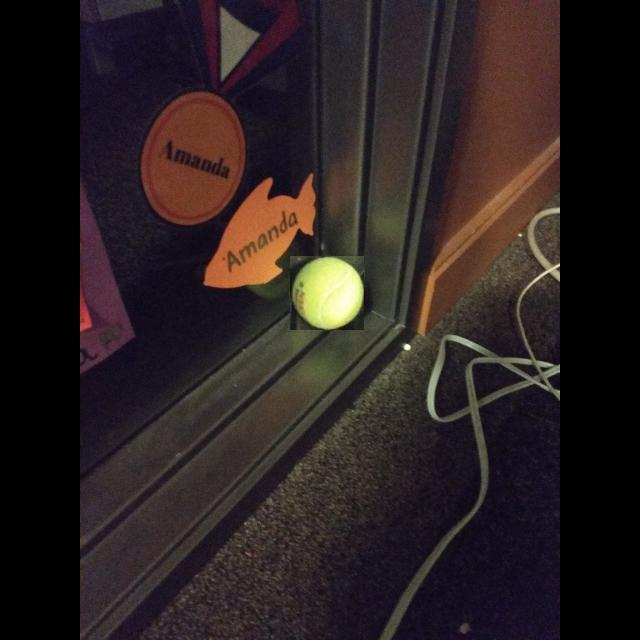tennis ball: (290, 256, 364, 330)
